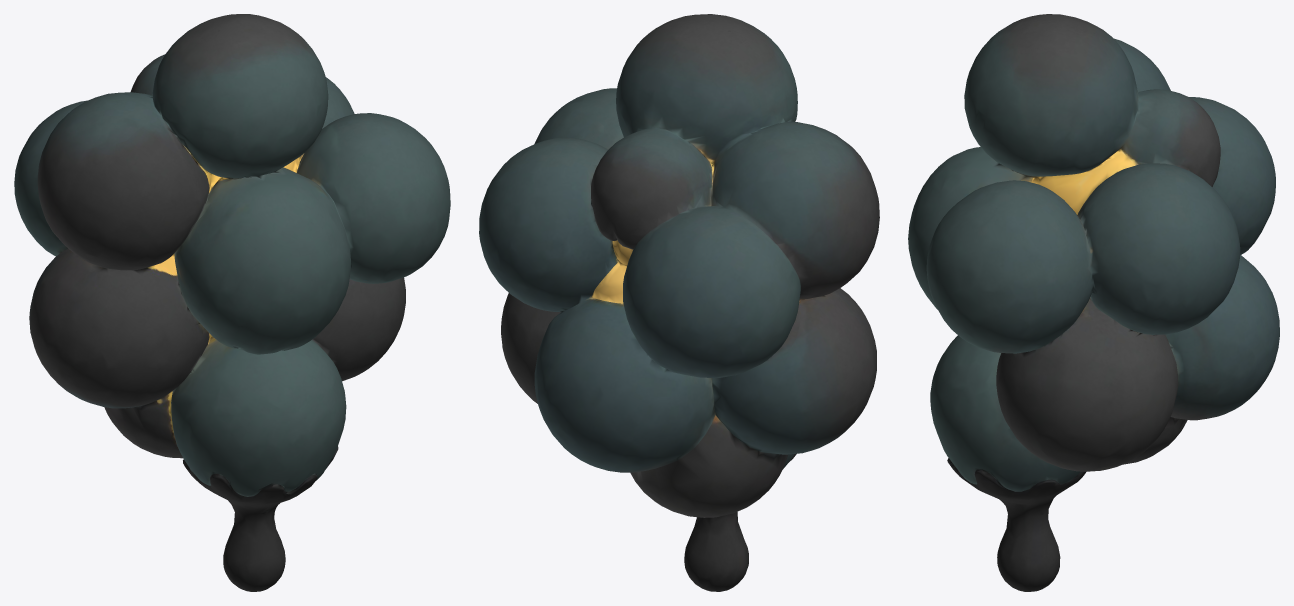
Rendered from atomo.glb.
3 views of the same model, side by side, from view 1: azimuth 30°, elevation 25°; view 2: azimuth 150°, elevation 25°; view 3: azimuth 270°, elevation 25° (orthographic). The views are drawn at different scales.
Parts seen in each view (by area): view 1: Malla; view 2: Malla; view 3: Malla.
Part boxes in pixels (left/top/right/bottom): Malla: left=14, top=14, right=450, bottom=591; Malla: left=479, top=14, right=879, bottom=591; Malla: left=908, top=14, right=1279, bottom=591.
Bounding box in the file's own units: 0.7342 × 1.1 × 0.6556.
Materials: 1 (1 with a texture image).
